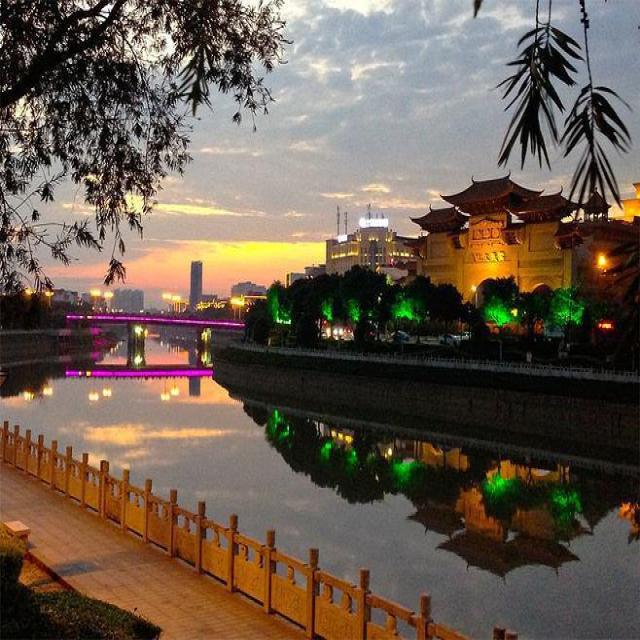other: (178, 228, 323, 280)
